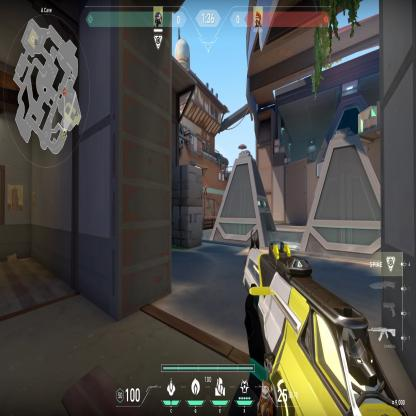enemy: (204, 181, 208, 196)
